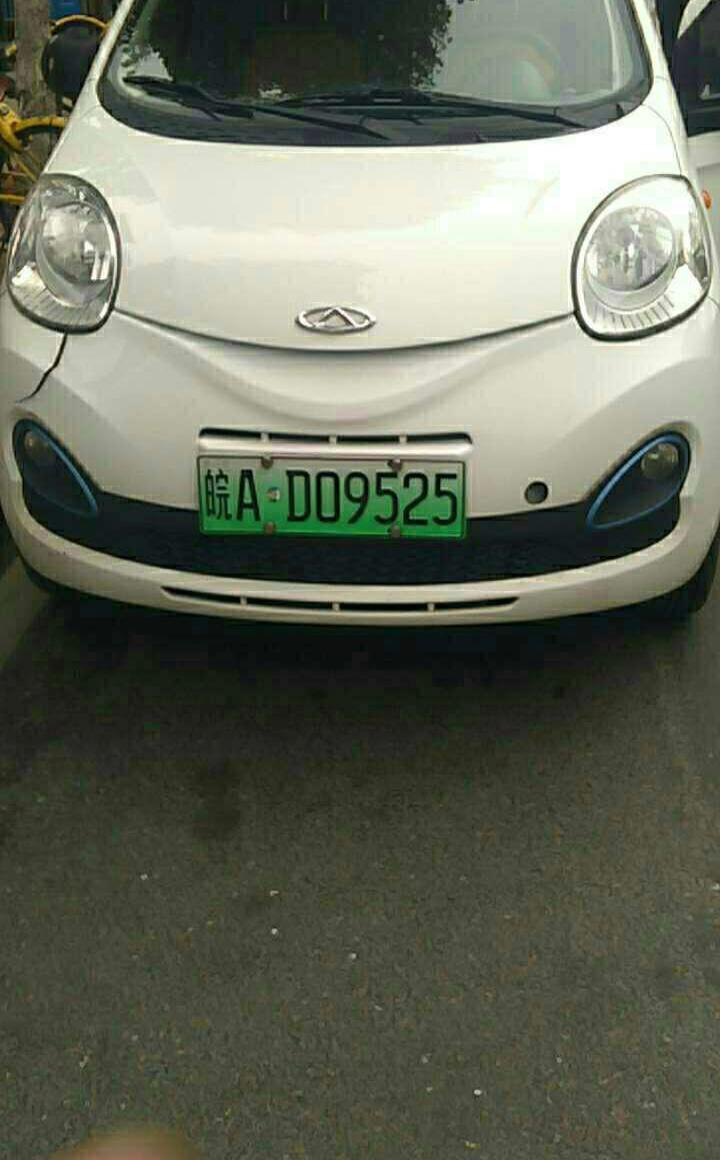car_green: (194, 450, 474, 550)
